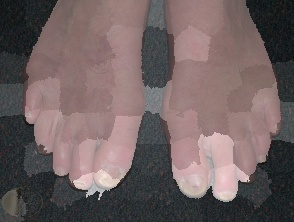Nail_psoriasis: (94, 161, 127, 193), (178, 176, 208, 197), (215, 189, 235, 205), (256, 151, 270, 166), (53, 165, 69, 178), (71, 178, 89, 188), (240, 175, 256, 185), (24, 112, 32, 119)
